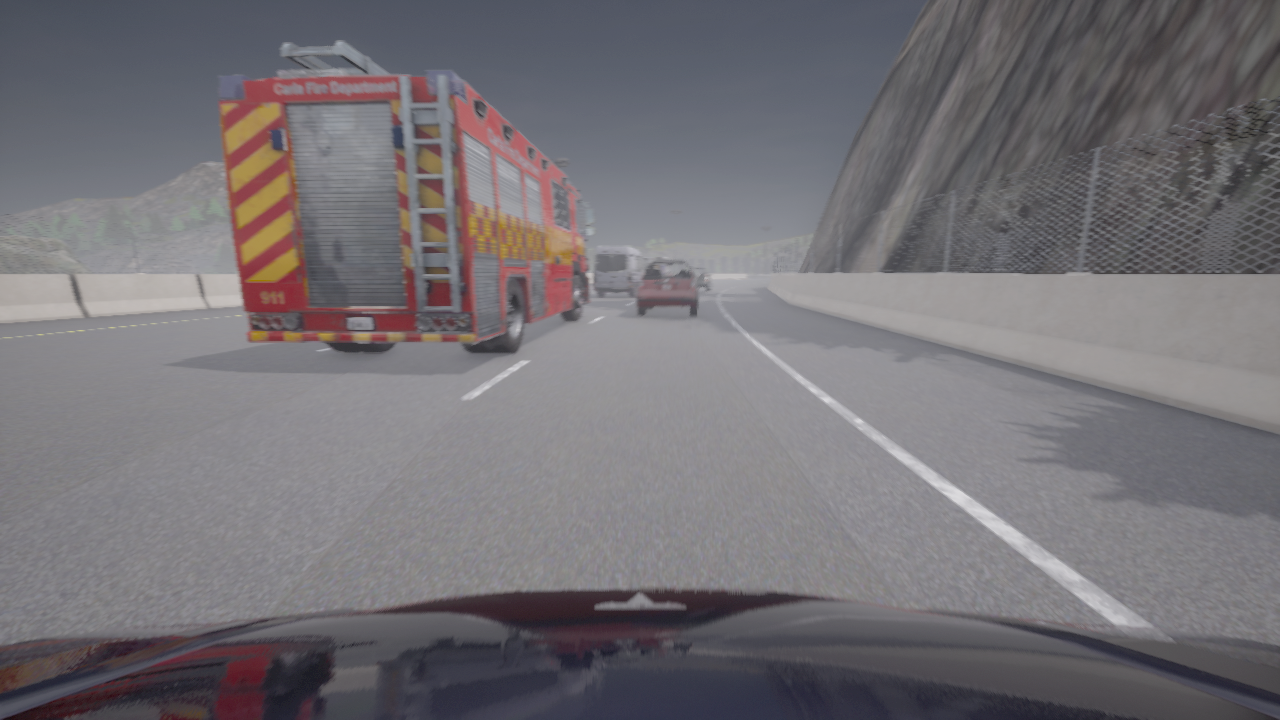cyclist: (0, 588, 1279, 719), (218, 41, 594, 354), (636, 259, 699, 316), (593, 246, 645, 296), (690, 267, 711, 292), (642, 256, 671, 266)
